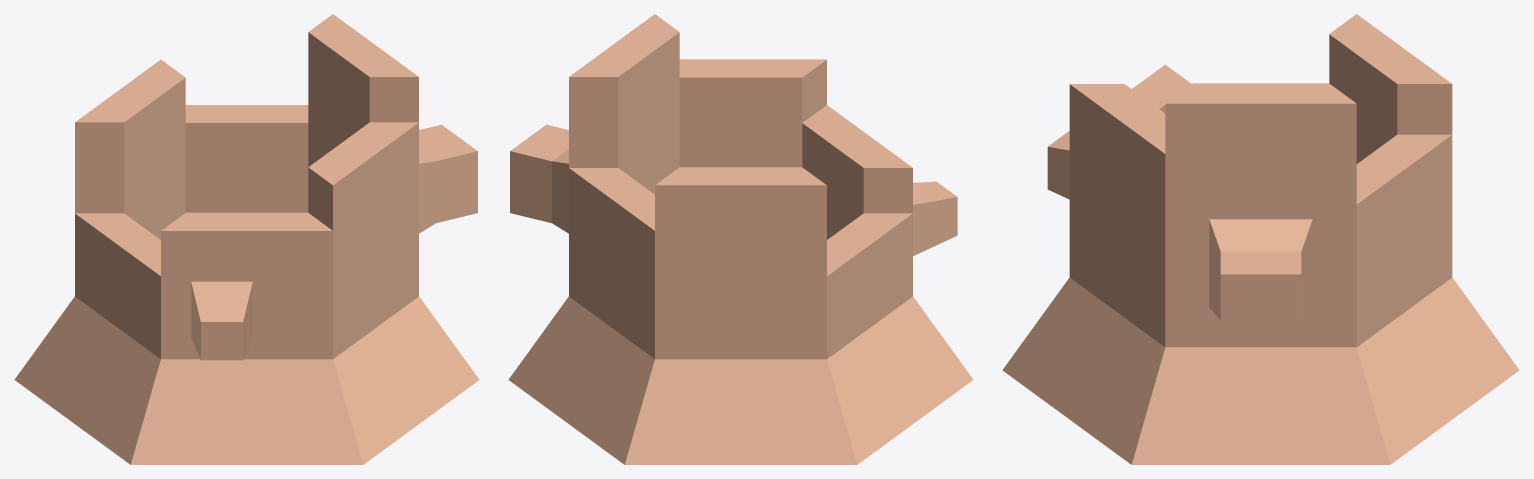
Rendered from stump_old.glb.
3 views of the same model, side by side, from view 1: azimuth 30°, elevation 25°; view 2: azimuth 150°, elevation 25°; view 3: azimuth 270°, elevation 25° (orthographic). The views are drawn at different scales.
Visible parts, largest first — view 1: stump_old; view 2: stump_old; view 3: stump_old.
Part boxes in pixels (x1,y1,x2,y2): stump_old: [14, 14, 479, 464]; stump_old: [508, 14, 973, 464]; stump_old: [1002, 14, 1519, 464].
Size of the model in its own units: 0.3565 by 0.2665 by 0.371.
